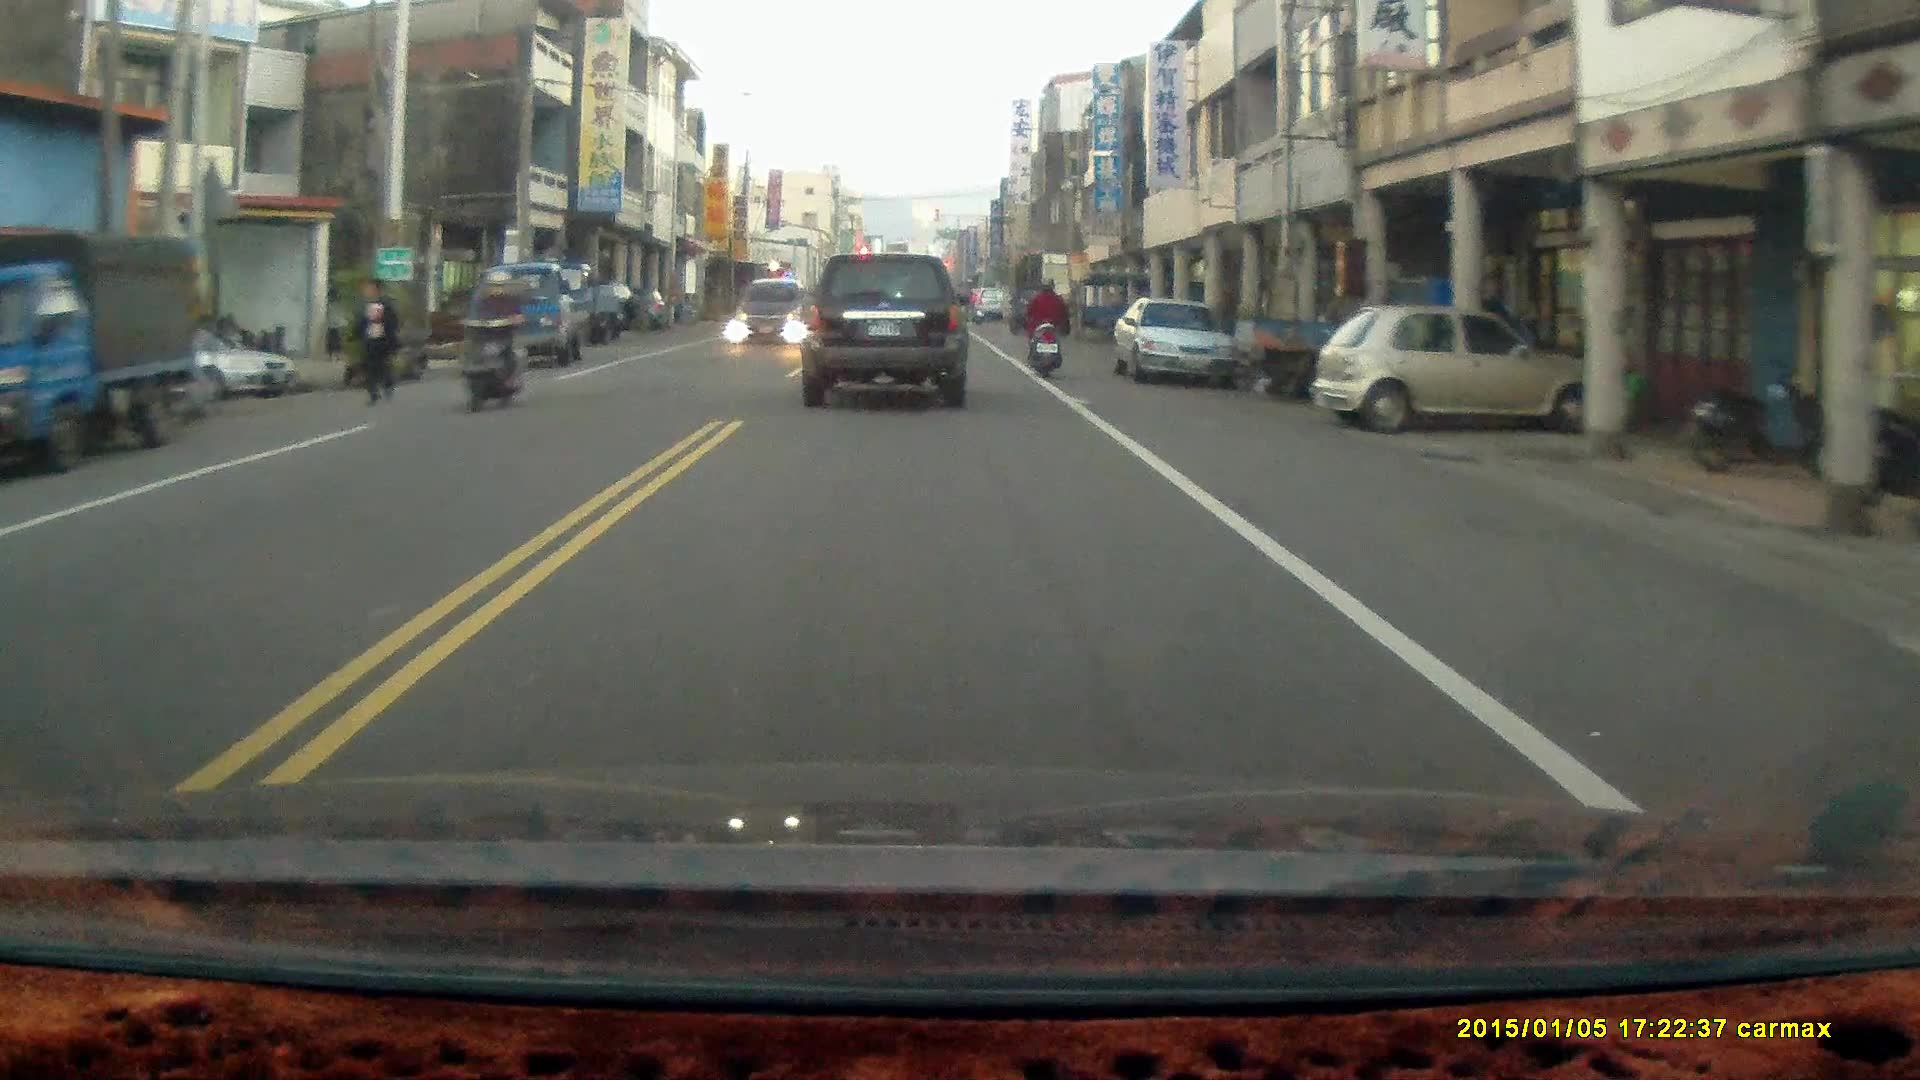pedestrian: (346, 273, 401, 410)
rider: (455, 263, 524, 415), (1025, 274, 1066, 375)
vehicle: (1, 228, 215, 480), (1317, 306, 1605, 435), (795, 250, 972, 413), (468, 265, 614, 371), (130, 317, 291, 401), (1114, 301, 1243, 387), (734, 278, 808, 347)
